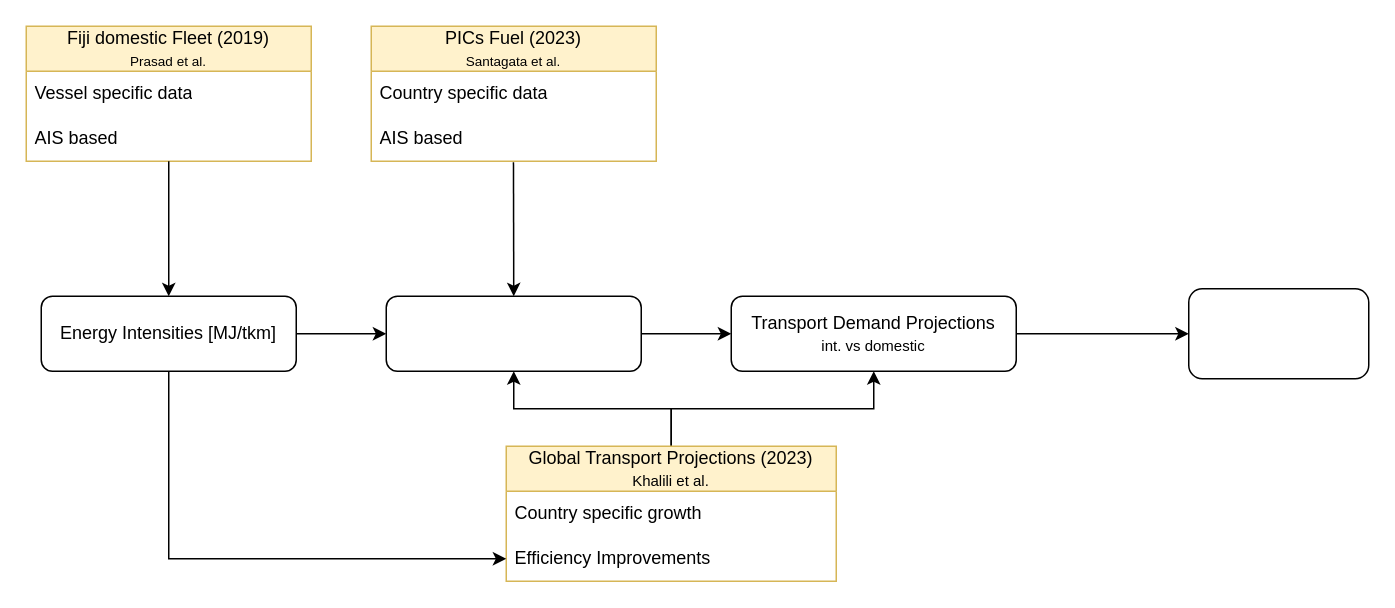
This 1395x608 diagram has some shape labels left out. Here are the shapes that lost their labels. From the top down, the centre of each, then its label:
the point at 513,333: Transport Demand 2023
the point at 1278,333: Fuel/Energy Demand
